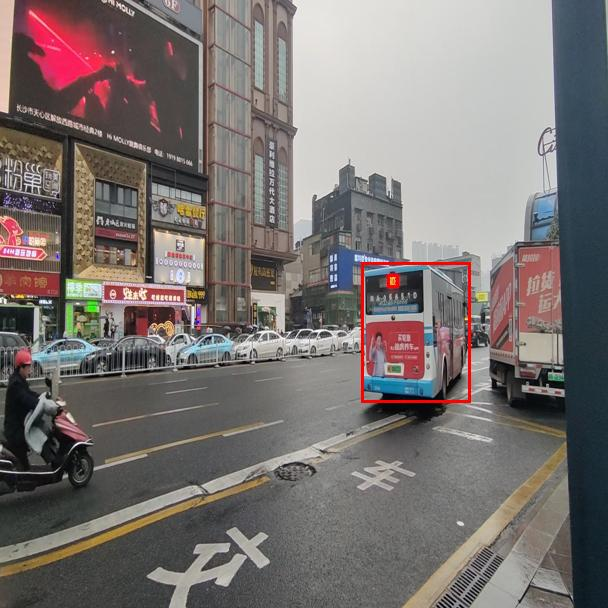bus: (361, 262, 470, 402)
screen: (387, 274, 398, 287)
